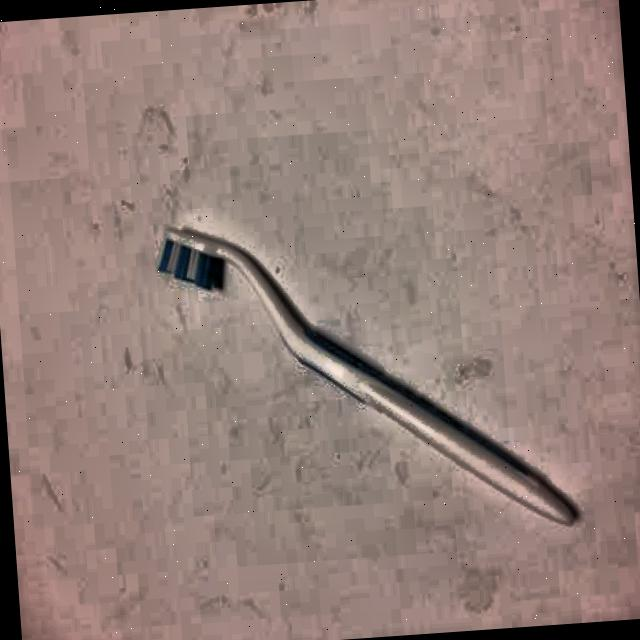trash: (150, 188, 586, 576)
